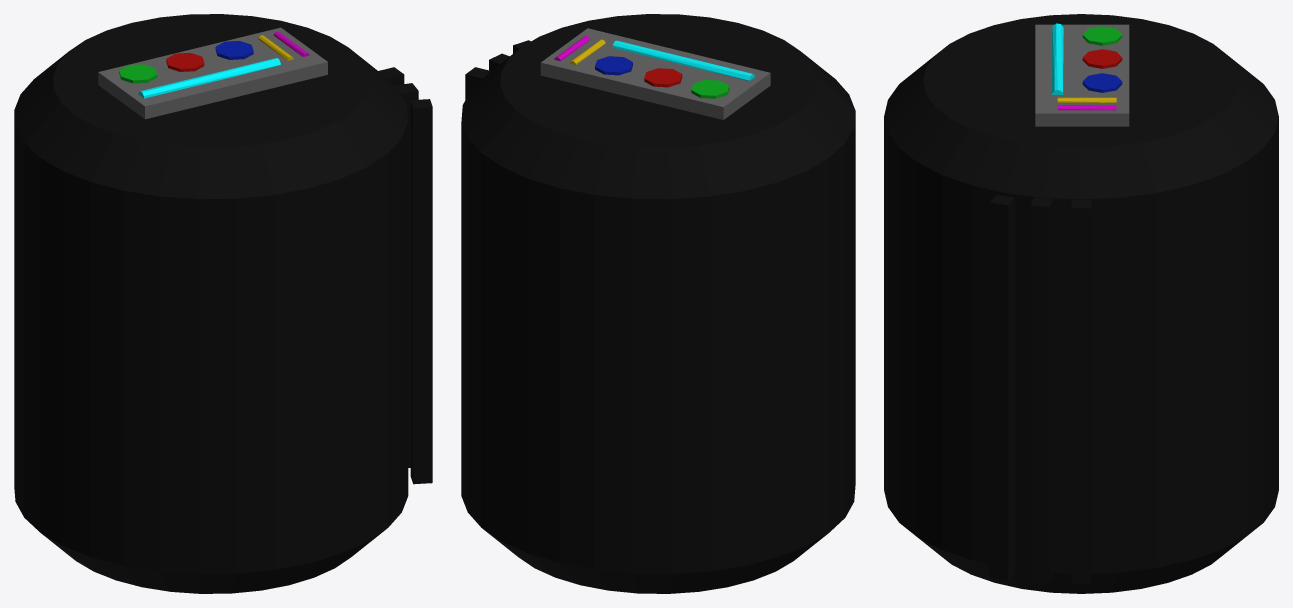
File: Barrel.obj
The picture shows the model from 3 angles, left to right: view 1: azimuth 30°, elevation 25°; view 2: azimuth 150°, elevation 25°; view 3: azimuth 270°, elevation 25°; orthographic projection.
Visible parts, largest first — view 1: Cylinder, Cube002, Panel-Mesh, Cube001, Panel-Mesh_1, Panel-Mesh_6, Panel-Mesh_5, Panel-Mesh_4; view 2: Cylinder, Panel-Mesh, Panel-Mesh_1, Panel-Mesh_6, Panel-Mesh_5, Panel-Mesh_4; view 3: Cylinder, Cube002, Cube001, Cube, Panel-Mesh, Panel-Mesh_1, Panel-Mesh_4, Panel-Mesh_6, Panel-Mesh_5.
Part boxes in pixels (x1,y1,x2,y2): Cylinder: (14,14,408,593); Cube002: (410,99,432,484); Panel-Mesh: (98,27,327,119); Cube001: (395,83,418,467); Panel-Mesh_1: (138,58,280,98); Panel-Mesh_6: (166,53,204,71); Panel-Mesh_5: (119,64,157,83); Panel-Mesh_4: (215,41,253,59); Cylinder: (461,14,855,593); Panel-Mesh: (540,28,770,119); Panel-Mesh_1: (612,40,754,80); Panel-Mesh_6: (644,68,682,87); Panel-Mesh_5: (691,79,729,98); Panel-Mesh_4: (595,56,632,75); Cylinder: (884,14,1278,593); Cube002: (989,194,1015,580); Cube001: (1030,197,1053,582); Cube: (1071,200,1091,583); Panel-Mesh: (1035,24,1129,126); Panel-Mesh_1: (1052,23,1063,94); Panel-Mesh_4: (1082,73,1122,92); Panel-Mesh_6: (1082,49,1122,68); Panel-Mesh_5: (1082,26,1122,45).
Bounding box in the file's own units: 2.1 × 2.6 × 2.
